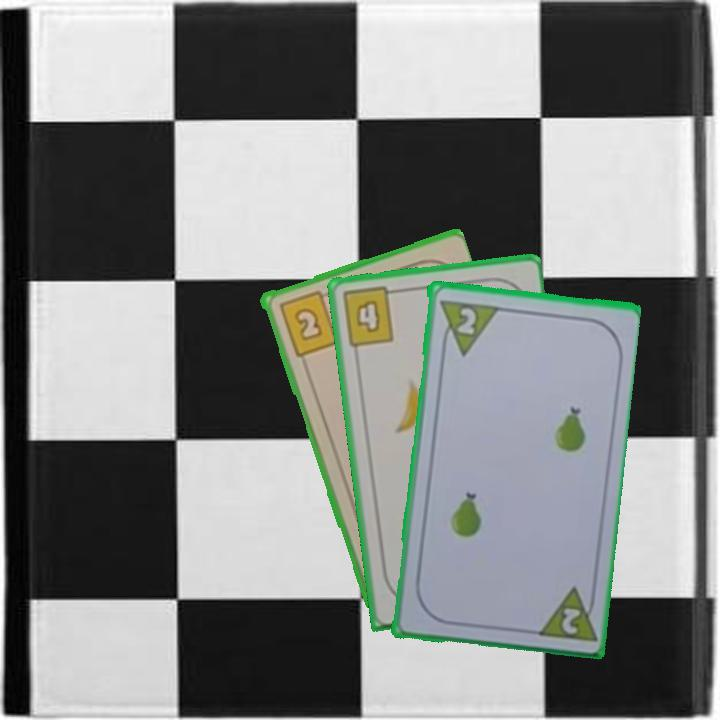2b: (275, 287, 340, 359)
2p: (532, 581, 599, 644), (453, 303, 479, 337)
4b: (338, 283, 402, 350)
